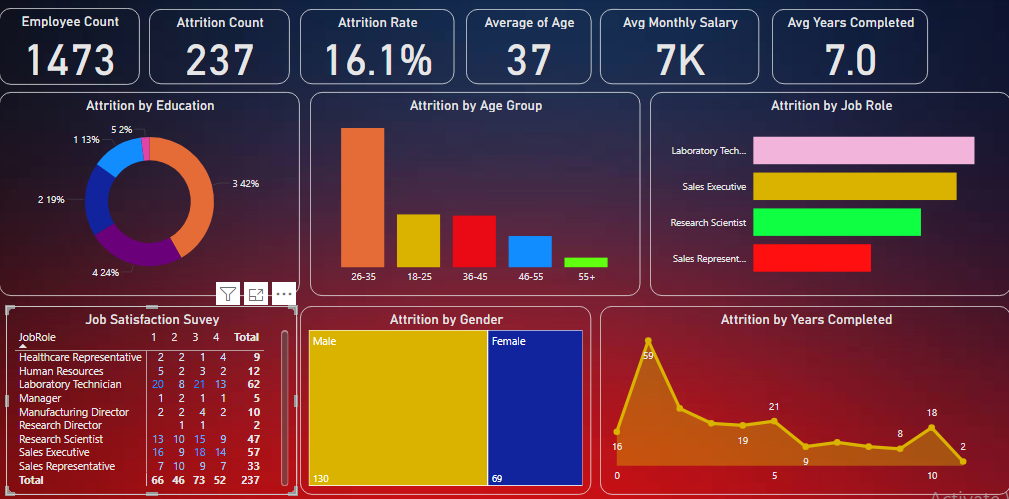

This screenshot's page, from the dashboard's own definition file:
{"tool":"powerbi","page":{"name":"Page 1","canvas":[1280,720],"ordinal":0},"visuals":[{"type":"card","title":"Employee Count","fields":{"Values":["CountNonNull(HR_Analytics.EmpID)"]},"box":[11,98.2,176.1,96.3],"z":0},{"type":"card","title":"Avg Years Completed","fields":{"Values":["Avg(HR_Analytics.YearsAtCompany)"]},"box":[978,100,195.4,94.5],"z":1000},{"type":"card","title":"Attrition Rate","fields":{"Values":["HR_Analytics.AttritionRate"]},"box":[387.2,100,192.7,94.5],"z":2000},{"type":"card","title":"Attrition Count","fields":{"Values":["HR_Analytics.Attrition Count"]},"box":[199.1,100,176.1,94.5],"z":3000},{"type":"card","title":"Average of Age","fields":{"Values":["Avg(HR_Analytics.Age)"]},"box":[594.5,100,156.9,94.5],"z":4000},{"type":"card","title":"Avg Monthly Salary","fields":{"Values":["Avg(HR_Analytics.MonthlyIncome)"]},"box":[762.4,100,199.1,94.5],"z":5000},{"type":"donutChart","title":"Attrition by Education","fields":{"Category":["HR_Analytics.Education"],"Y":["HR_Analytics.Attrition Count"]},"box":[11,203.7,376.1,255],"z":6000},{"type":"columnChart","title":"Attrition by Age Group","fields":{"Y":["HR_Analytics.Attrition Count"],"Category":["HR_Analytics.AgeGroup"]},"box":[400,203.7,412.8,255],"z":7000},{"type":"pivotTable","title":"Job Satisfaction Suvey","fields":{"Rows":["HR_Analytics.JobRole"],"Columns":["HR_Analytics.JobSatisfaction"],"Values":["HR_Analytics.Attrition Count"]},"box":[19.9,471.3,364.3,235.7],"z":8001},{"type":"barChart","title":"Attrition by Job Role","fields":{"Category":["HR_Analytics.JobRole"],"Y":["HR_Analytics.Attrition Count"]},"box":[824.8,203.7,452.3,255],"z":8002},{"type":"areaChart","title":"Attrition by Years Completed","fields":{"Y":["HR_Analytics.Attrition Count"],"Category":["HR_Analytics.YearsAtCompany"]},"box":[762.5,471.4,514.3,235.7],"z":8003},{"type":"treemap","title":"Attrition by Gender","fields":{"Values":["HR_Analytics.Attrition Count"],"Group":["HR_Analytics.Gender"]},"box":[387.5,471.4,364.3,235.7],"z":8004},{"type":"slicer","fields":{"Values":["HR_Analytics.Department"]},"box":[478.9,0,798.2,94.5],"z":8005},{"type":"textbox","box":[23.2,23.2,478.6,71.4],"z":8006}]}

Visuals, with their boxes on the page's 1280x720 design canvas (x1, y1, x2, y2). These are canvas units, not pixel positions in the 1009x499 screenshot, which may show the page scaled, cropped or inside an application window:
"Employee Count" card: bbox(11, 98, 187, 194)
"Avg Years Completed" card: bbox(978, 100, 1173, 194)
"Attrition Rate" card: bbox(387, 100, 580, 194)
"Attrition Count" card: bbox(199, 100, 375, 194)
"Average of Age" card: bbox(594, 100, 751, 194)
"Avg Monthly Salary" card: bbox(762, 100, 962, 194)
"Attrition by Education" donutChart: bbox(11, 204, 387, 459)
"Attrition by Age Group" columnChart: bbox(400, 204, 813, 459)
"Job Satisfaction Suvey" pivotTable: bbox(20, 471, 384, 707)
"Attrition by Job Role" barChart: bbox(825, 204, 1277, 459)
"Attrition by Years Completed" areaChart: bbox(762, 471, 1277, 707)
"Attrition by Gender" treemap: bbox(388, 471, 752, 707)
slicer - HR_Analytics.Department: bbox(479, 0, 1277, 94)
textbox: bbox(23, 23, 502, 95)
